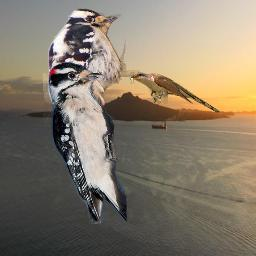Cuckoo: (128, 72, 220, 113)
Woodpecker: (43, 6, 141, 153), (48, 62, 127, 224)
